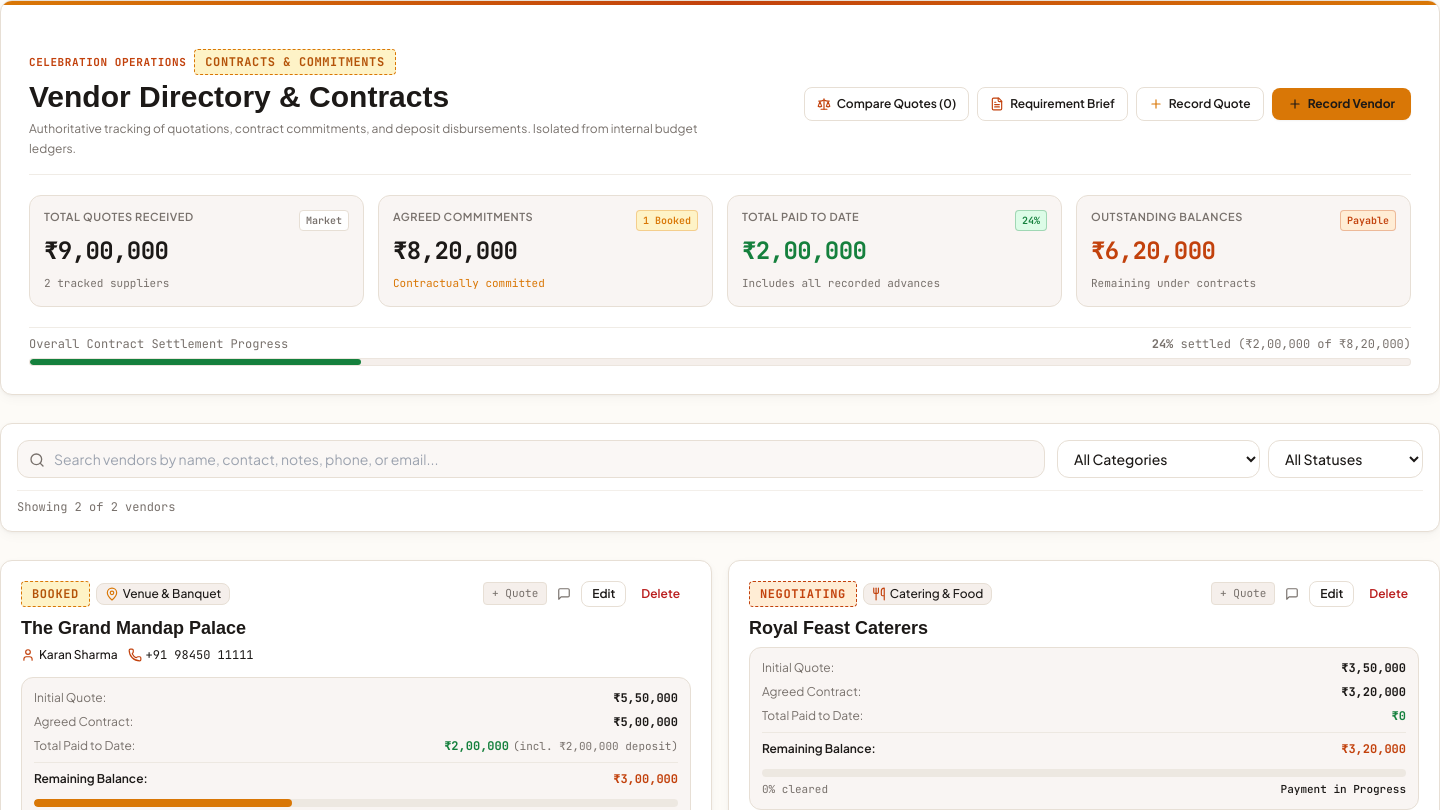
Test case: VendorsTab Component › filters vendors by text search query
Type "Mandap" into the field with placeholder "Search vendors by name, contact, notes, phone, or email..." at x=531, y=458, box [17, 440, 1045, 478]
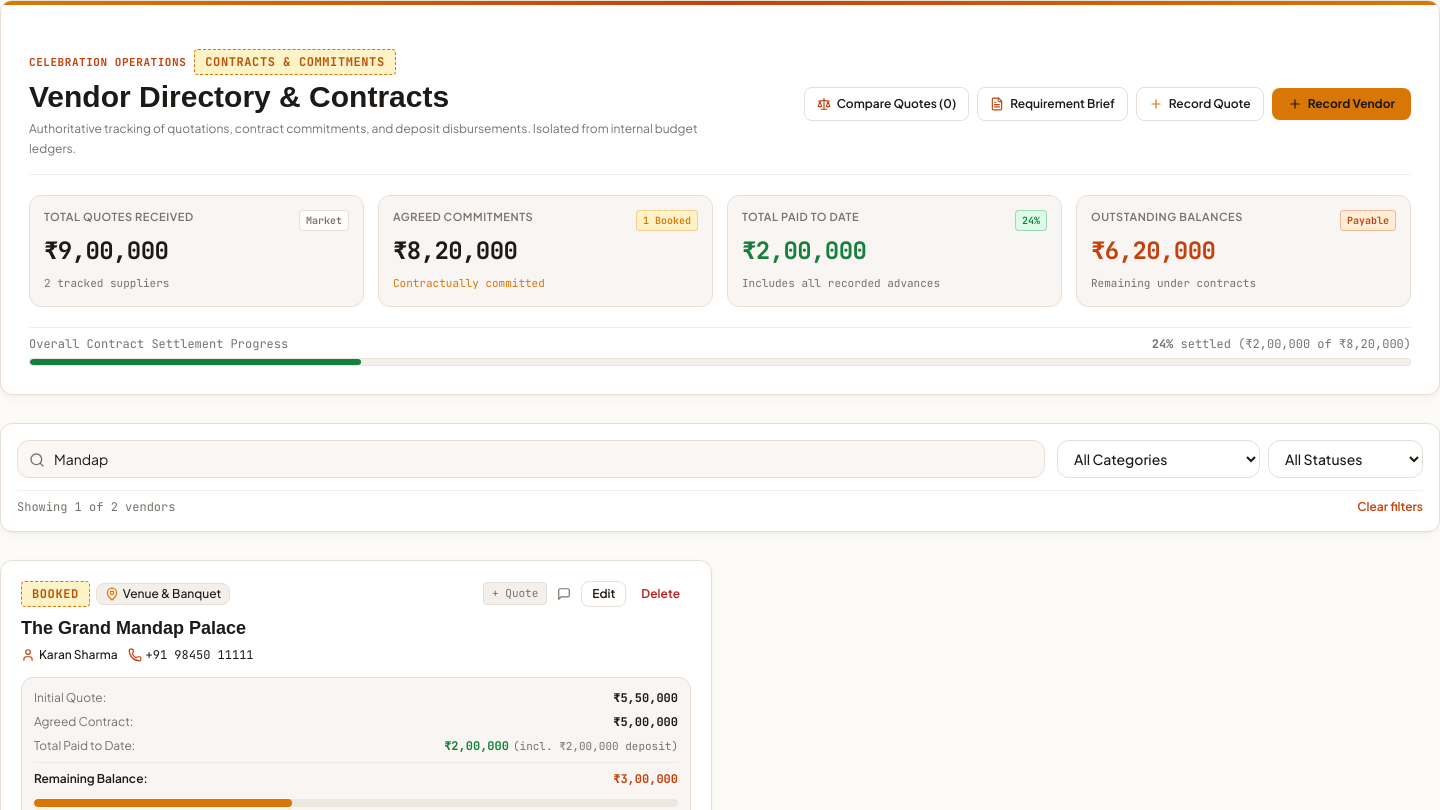
Expected: the heading "The Grand Mandap Palace" is shown, [21, 618, 246, 638]
Result: the heading "Royal Feast Caterers" is gone
